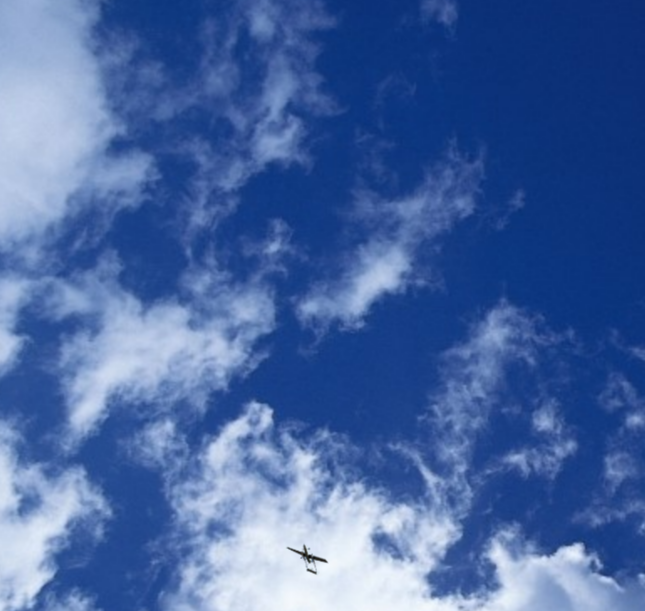military drone: (286, 544, 328, 575)
